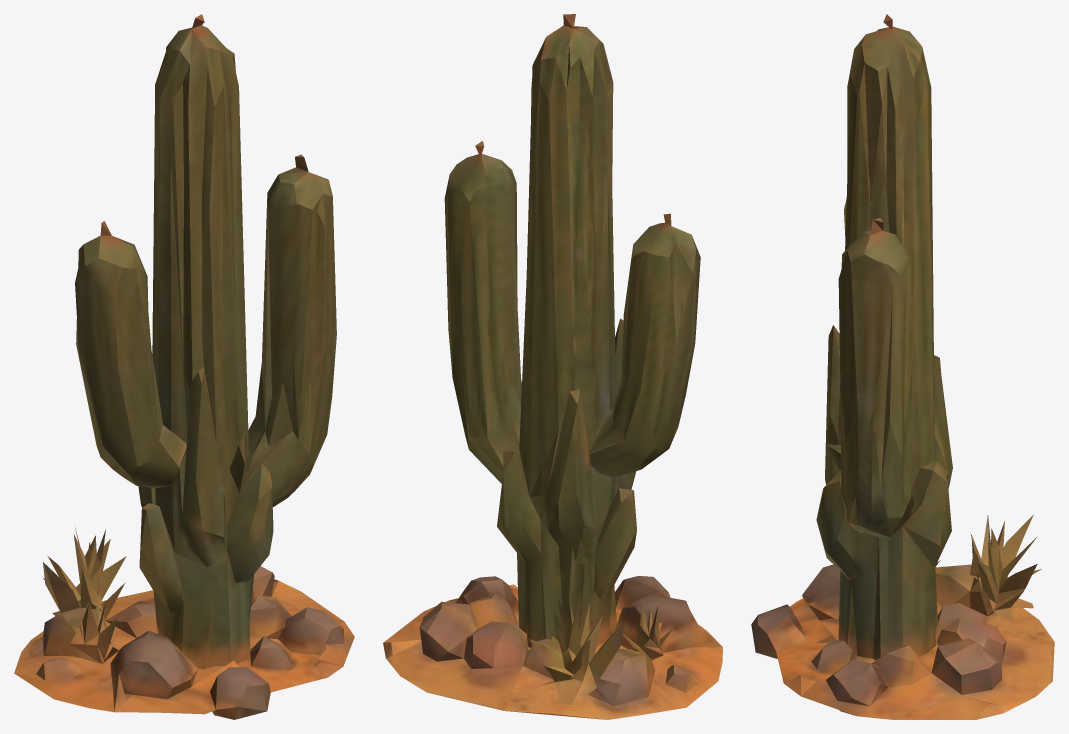
The model's file is shrub_01.glb.
3 renders of one model, left to right at view 1: azimuth 30°, elevation 25°; view 2: azimuth 150°, elevation 25°; view 3: azimuth 270°, elevation 25°, orthographic.
Visible parts, largest first — view 1: shrub_01; view 2: shrub_01; view 3: shrub_01.
Boxes of the visible parts, x1=… form: shrub_01: x1=14, y1=14, x2=354, y2=719; shrub_01: x1=383, y1=14, x2=722, y2=719; shrub_01: x1=751, y1=14, x2=1054, y2=719.
Size of the model in its own units: 1.63 by 3.4 by 1.46.
Materials: 1 (1 with a texture image).
